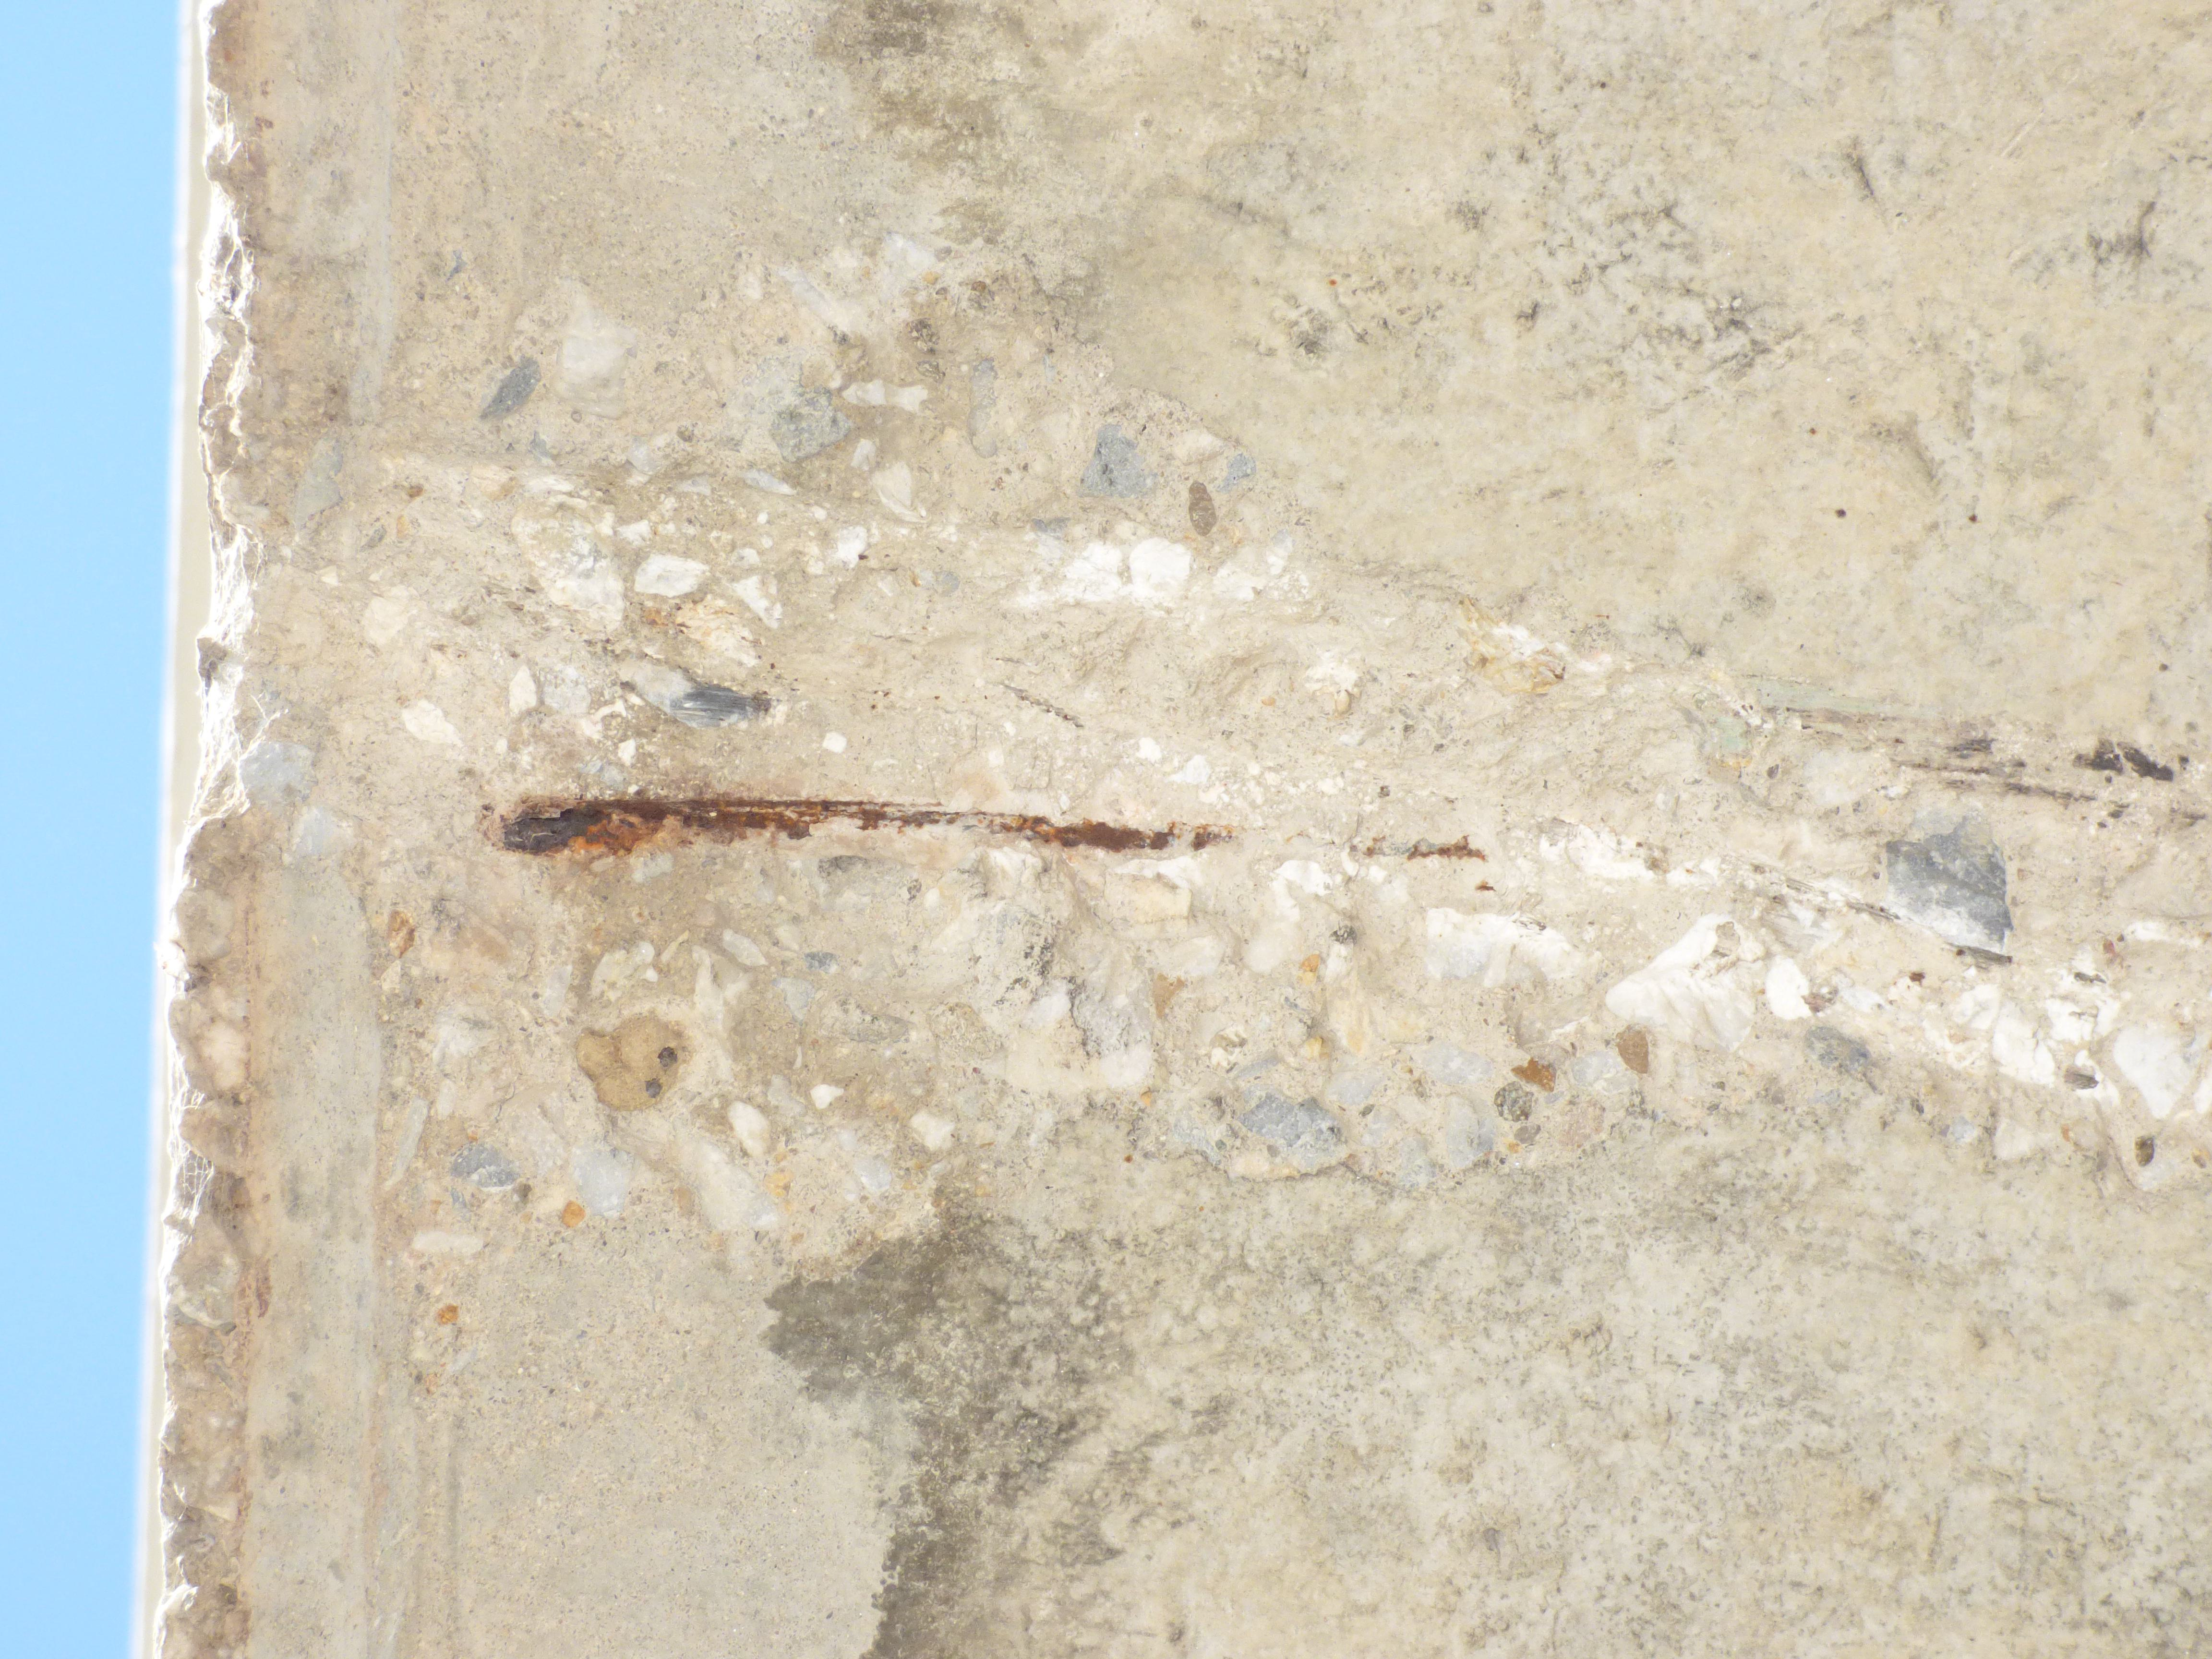Exposed reinforcement: (502, 796, 1224, 861)
